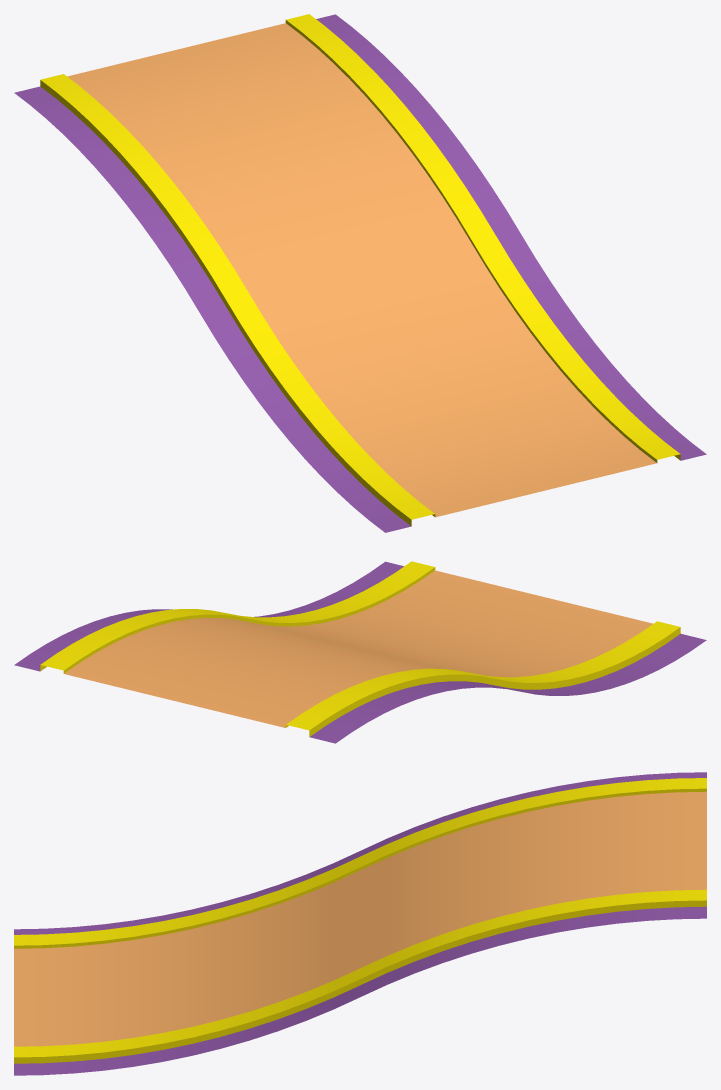
The model's file is roadRampLongCurved.glb.
The picture shows the model from 3 angles, top to bottom: view 1: azimuth 30°, elevation 25°; view 2: azimuth 150°, elevation 25°; view 3: azimuth 270°, elevation 25°; orthographic projection. The views are drawn at different scales.
Visible parts, largest first — view 1: roadRampLongCurved(Clone); view 2: roadRampLongCurved(Clone); view 3: roadRampLongCurved(Clone).
Boxes of the visible parts, left/top/right/bottom form: roadRampLongCurved(Clone): left=14, top=14, right=706, bottom=532; roadRampLongCurved(Clone): left=14, top=561, right=706, bottom=743; roadRampLongCurved(Clone): left=14, top=772, right=706, bottom=1075.
Bounding box in the file's own units: 1 × 0.52 × 2.
